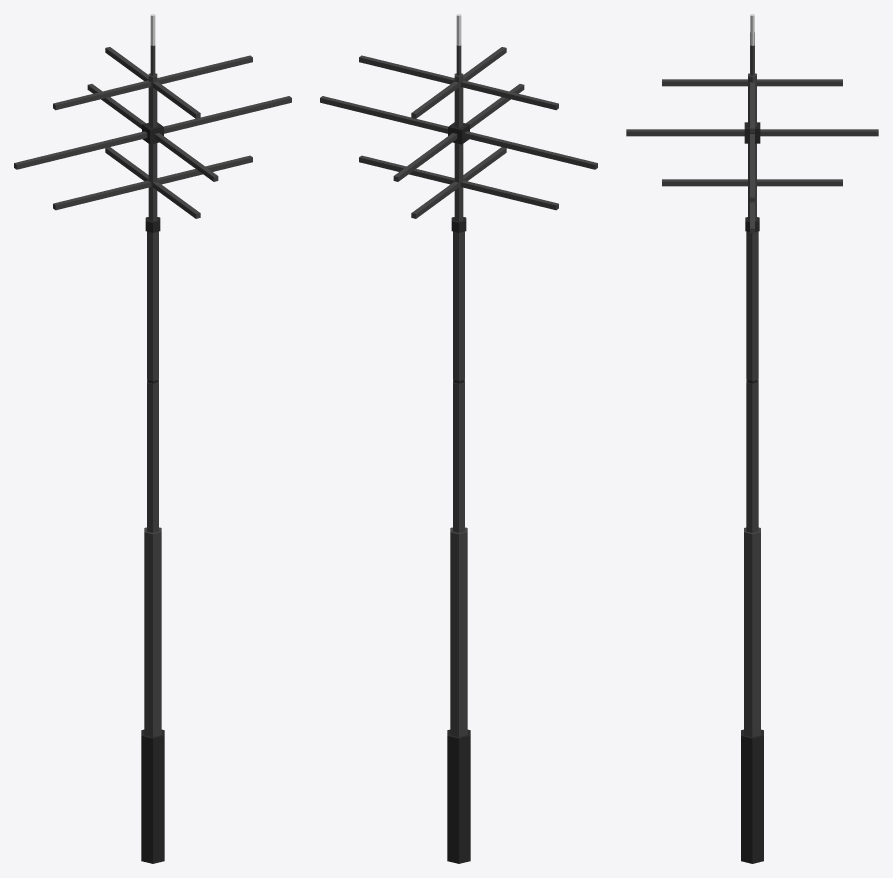
Rendered from SM_BuildingsDecor_17.fbx.
3 views of the same model, side by side, from view 1: azimuth 30°, elevation 25°; view 2: azimuth 150°, elevation 25°; view 3: azimuth 270°, elevation 25° (orthographic).
Visible parts, largest first — view 1: SM_BuildingsDecor_17; view 2: SM_BuildingsDecor_17; view 3: SM_BuildingsDecor_17.
Part boxes in pixels (x1,y1,x2,y2): SM_BuildingsDecor_17: [14, 14, 291, 863]; SM_BuildingsDecor_17: [320, 14, 597, 863]; SM_BuildingsDecor_17: [626, 14, 878, 863].
Bounding box in the file's own units: 1.31 × 3.85 × 1.04.
